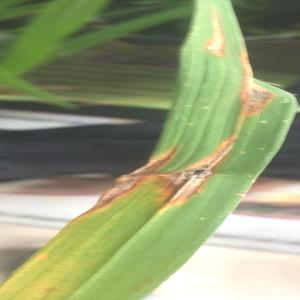1 RiceBlast: (151, 129, 243, 206), (80, 134, 182, 203), (237, 43, 283, 119), (200, 1, 236, 54)
